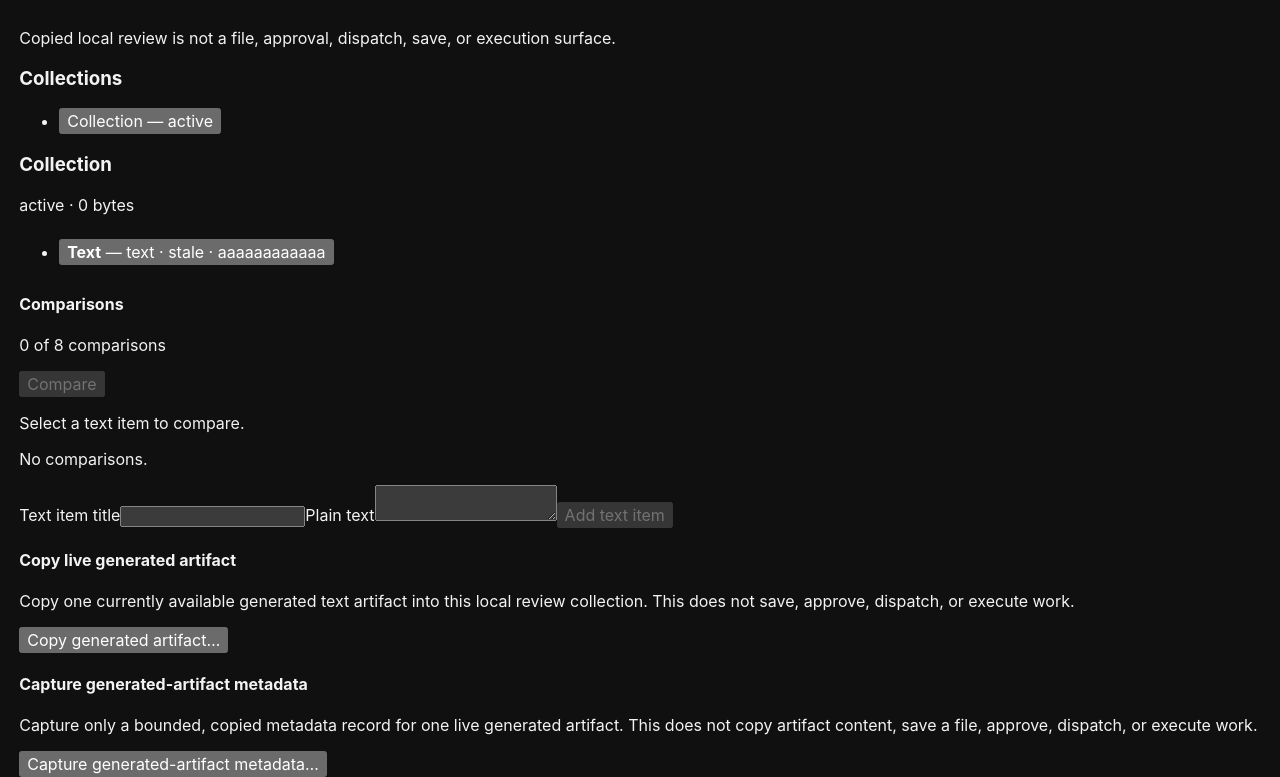
it: local review image pane › withholds stale and unavailable text preview content
Step 1. Click the button "Text — text" → {"x": 196, "y": 252}, box [59,239,334,265]
(page scrolled)
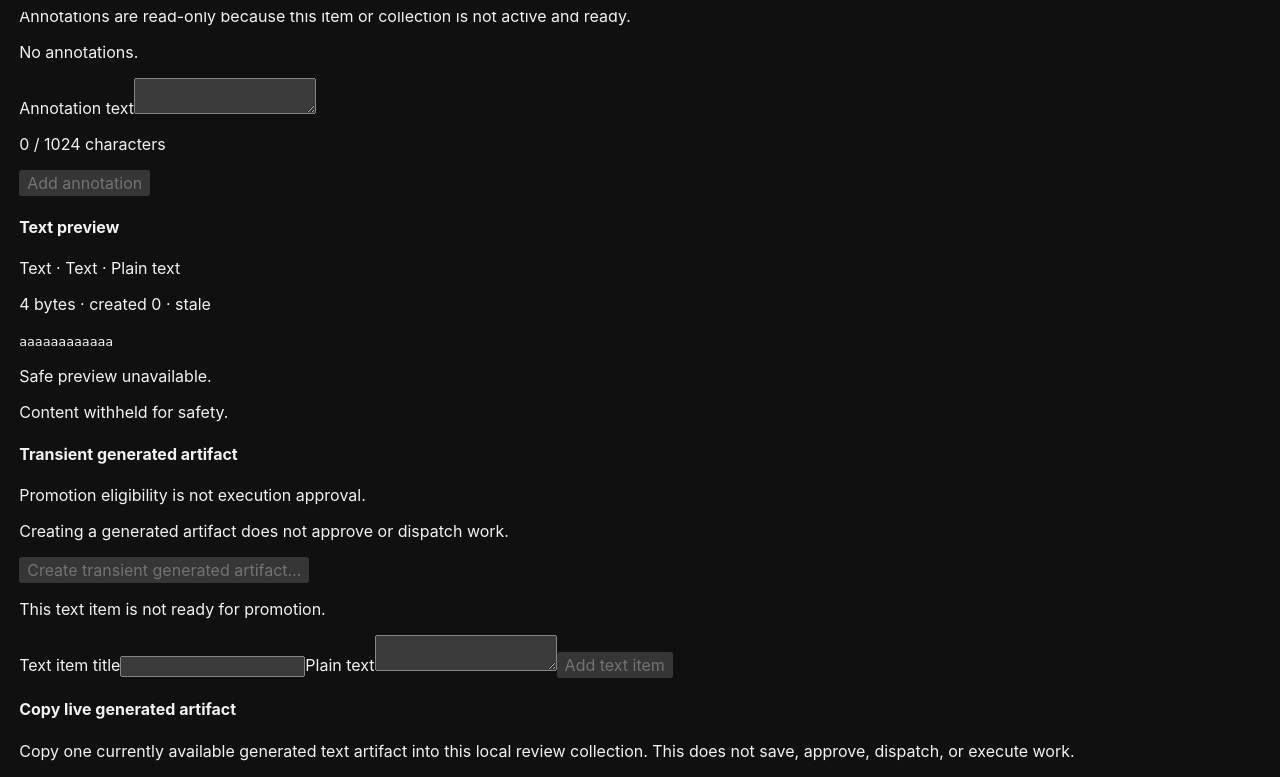
Now the text "Content withheld for safety." is shown, box [19,402,228,422]
